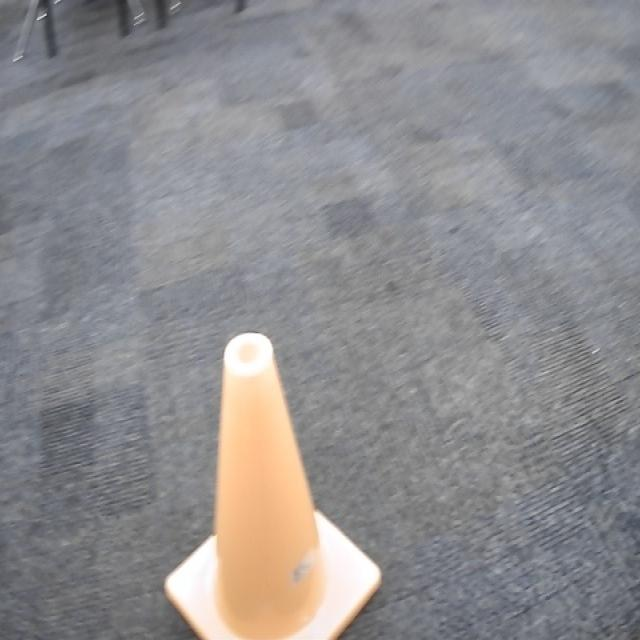cone: (164, 330, 381, 640)
